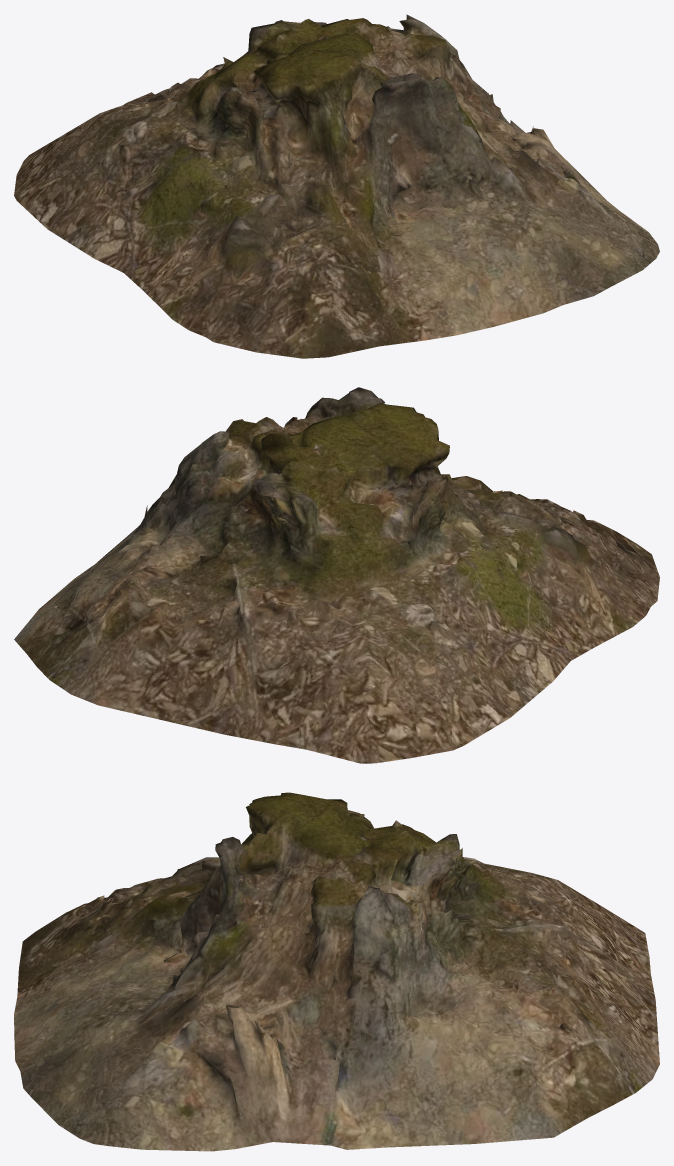
Rendered from tree_stump_01.glb.
3 renders of one model, top to bottom at view 1: azimuth 30°, elevation 25°; view 2: azimuth 150°, elevation 25°; view 3: azimuth 270°, elevation 25°, orthographic. The views are drawn at different scales.
Visible parts, largest first — view 1: tree_stump_01; view 2: tree_stump_01; view 3: tree_stump_01.
Part boxes in pixels (x1,y1,x2,y2): tree_stump_01: (14,14,659,358); tree_stump_01: (14,387,659,763); tree_stump_01: (14,792,659,1151).
Bounding box in the file's own units: 1.43 × 0.571 × 1.59.
Materials: 1 (1 with a texture image).
